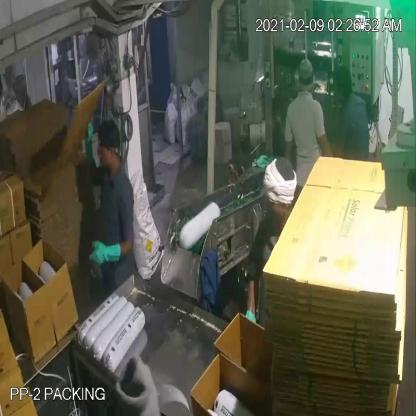glove: (86, 231, 128, 272), (82, 118, 99, 173)
